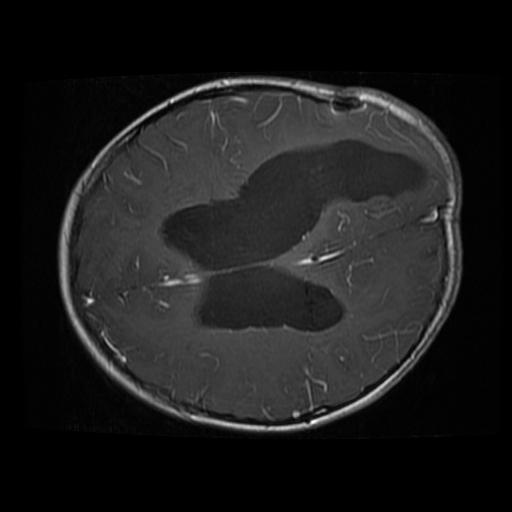glioma: (235, 137, 422, 247)
